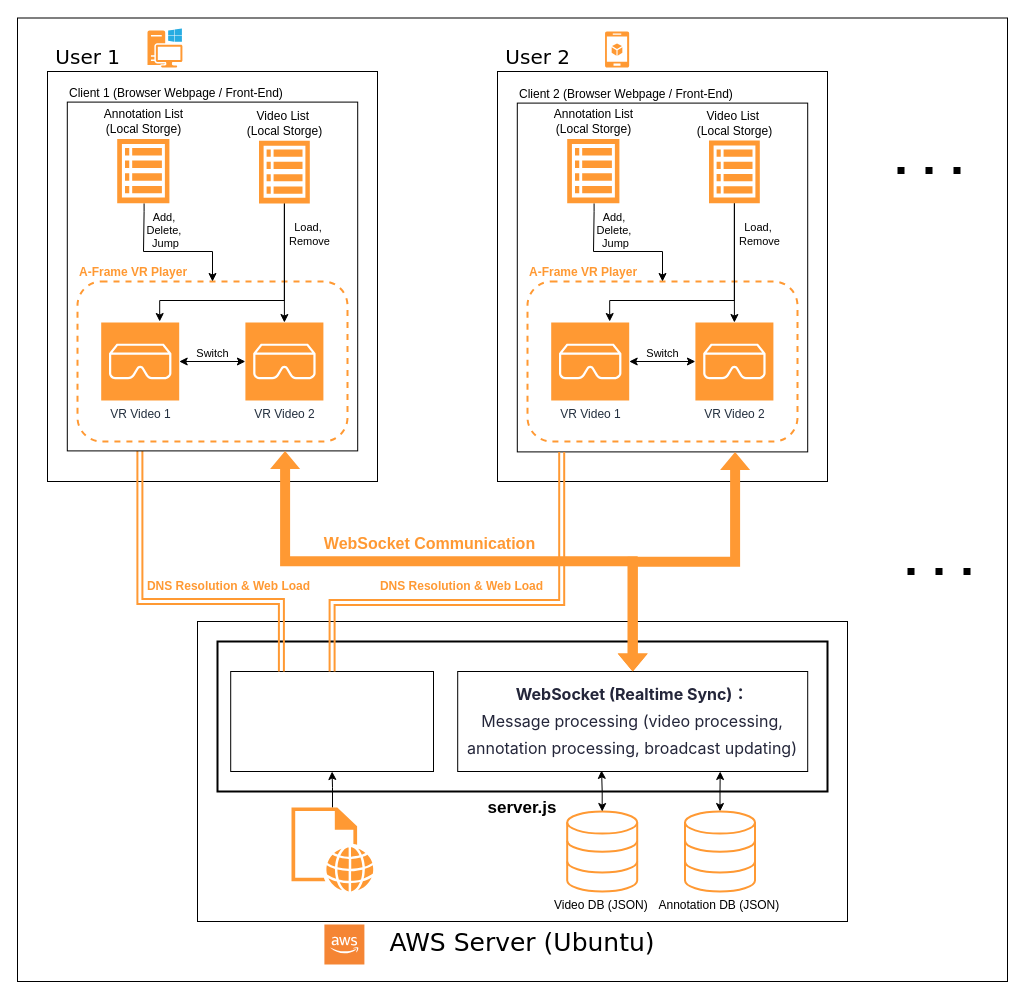
The diagram is 1025 pixels wide and 999 high, and some of its shapes have lost their labels. Here are the shapes that lost their labels. From the top down, the centre of each, then its label:
At [164,47]: "Windows PC/Laptop".
At [616,49]: "iOS phone".
At [332,721]: "Apache ( HTTPS): Load page and static resources to client".
At [332,849]: "index.html".
